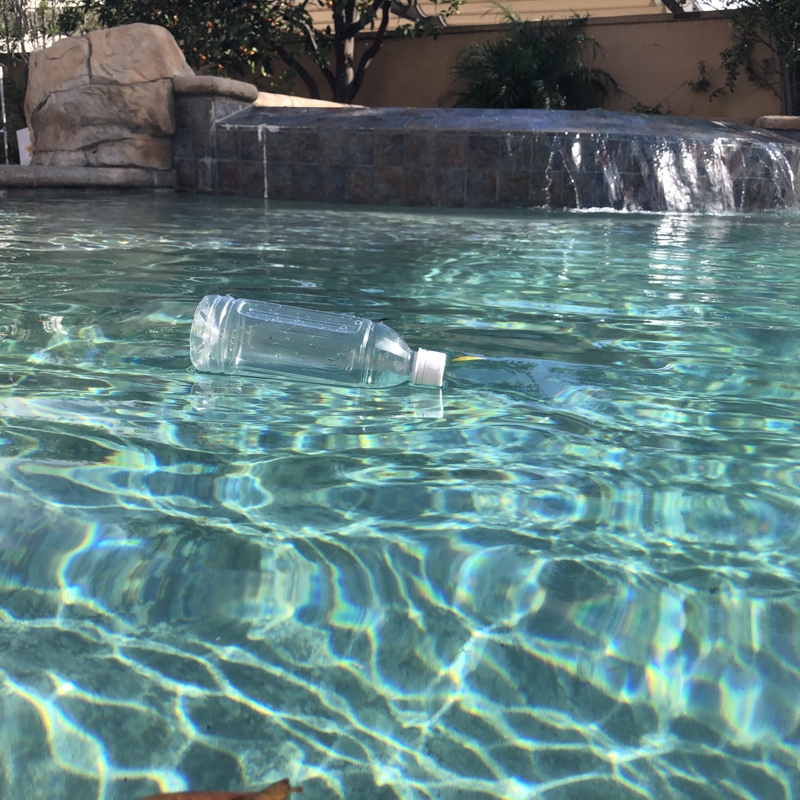Plastic Bottle: (184, 287, 453, 400)
